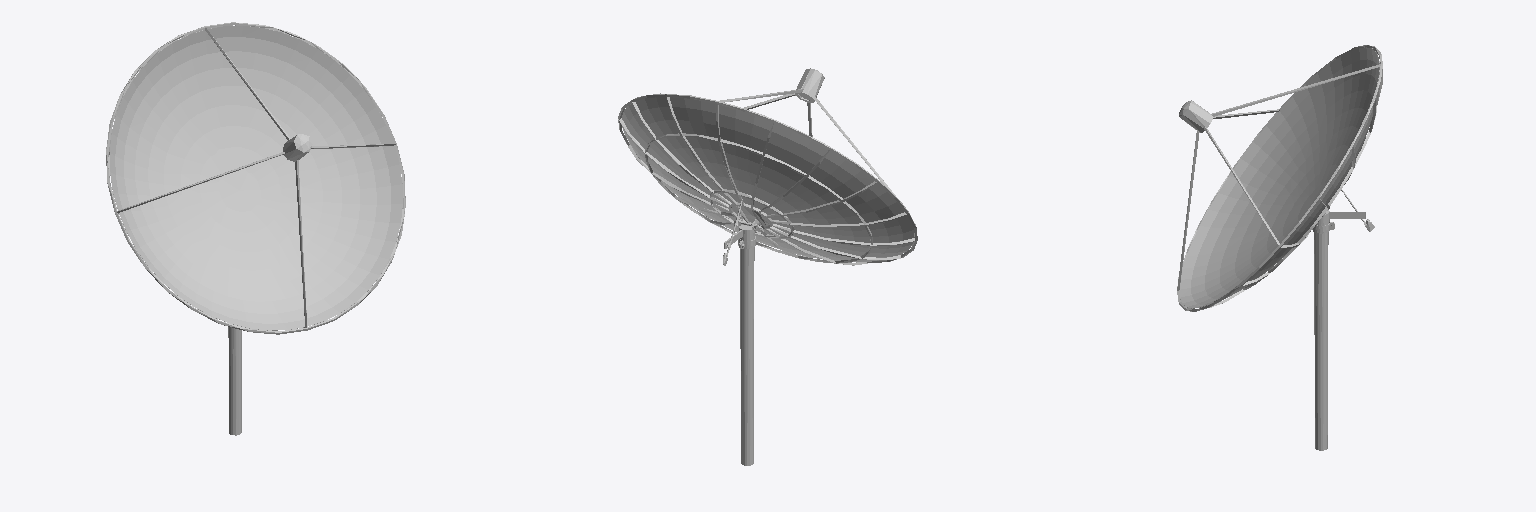
Rendered from antena.obj.
3 renders of one model, left to right at view 1: azimuth 30°, elevation 25°; view 2: azimuth 150°, elevation 25°; view 3: azimuth 270°, elevation 25°, orthographic.
Parts seen in each view (by area): view 1: mesh, dishframe, clamppost; view 2: mesh, dishframe, clamppost; view 3: mesh, dishframe, clamppost.
Part boxes in pixels (x1,y1,x2,y2): mesh: (110, 26, 402, 330); dishframe: (106, 22, 405, 334); clamppost: (228, 327, 241, 435); mesh: (622, 97, 914, 261); dishframe: (618, 68, 917, 265); clamppost: (724, 219, 755, 465); mesh: (1179, 47, 1379, 308); dishframe: (1177, 45, 1382, 311); clamppost: (1312, 210, 1365, 450).
Size of the model in its own units: 4.74 by 6.16 by 3.